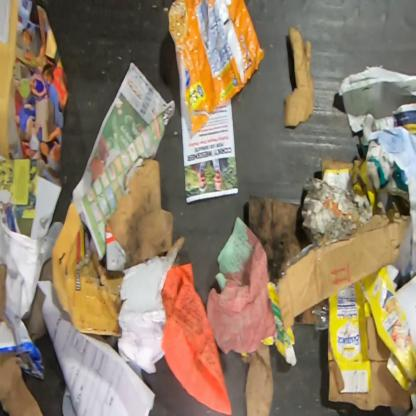cardboard: (278, 200, 410, 330), (327, 264, 416, 412), (52, 203, 125, 337), (105, 158, 186, 270), (0, 263, 47, 415), (0, 154, 63, 240), (247, 194, 302, 286), (321, 158, 376, 208)
soft_plastic: (167, 0, 266, 135)
